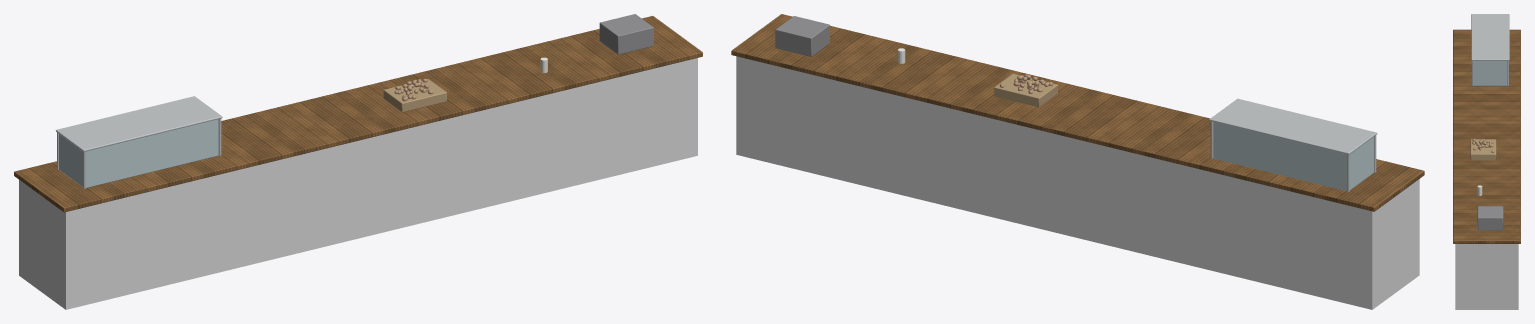
File: snack_bar.mobile.glb
The picture shows the model from 3 angles, left to right: view 1: azimuth 30°, elevation 25°; view 2: azimuth 150°, elevation 25°; view 3: azimuth 270°, elevation 25°; orthographic projection. The views are drawn at different scales.
Parts seen in each view (by area): view 1: COL_SnackBar, SnackBar; view 2: COL_SnackBar, SnackBar; view 3: SnackBar, COL_SnackBar.
Part boxes in pixels (x1=…): COL_SnackBar: x1=19, y1=58, x2=697, y2=309; SnackBar: x1=14, y1=14, x2=702, y2=212; COL_SnackBar: x1=736, y1=56, x2=1419, y2=309; SnackBar: x1=731, y1=14, x2=1424, y2=211; SnackBar: x1=1453, y1=14, x2=1520, y2=243; COL_SnackBar: x1=1455, y1=244, x2=1518, y2=309.
Bounding box in the file's own units: 7.08 × 1.52 × 0.9602.
9 materials, 2 textured.
